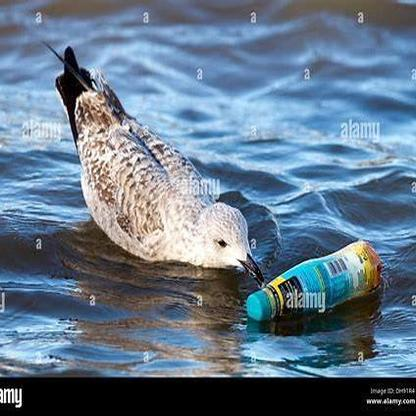plastic bottle: (248, 239, 384, 320)
